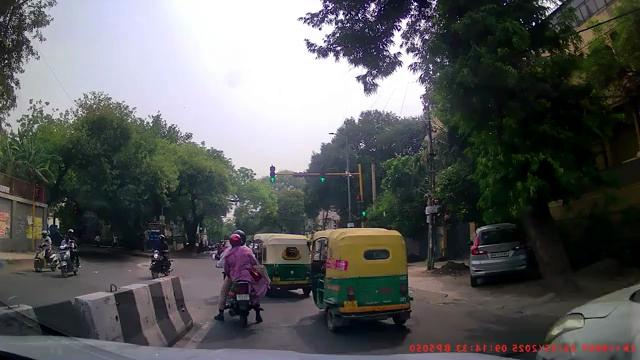motorcycle_with_helmet: (56, 228, 82, 278), (148, 229, 173, 279)
passenger_with_helmet: (215, 229, 268, 328)
